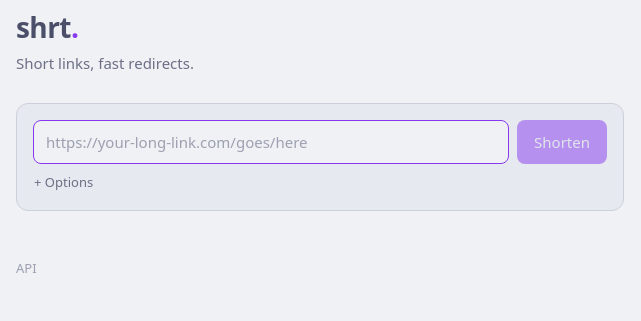
Test: App › shows API error messages
Type "https://example.com" into the field named "Long URL" at (271, 142), box [33,120,509,164]
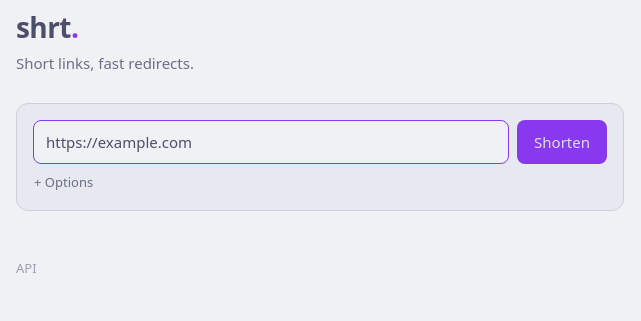
Click the button "Shorten" at (562, 142), box [517,120,607,164]
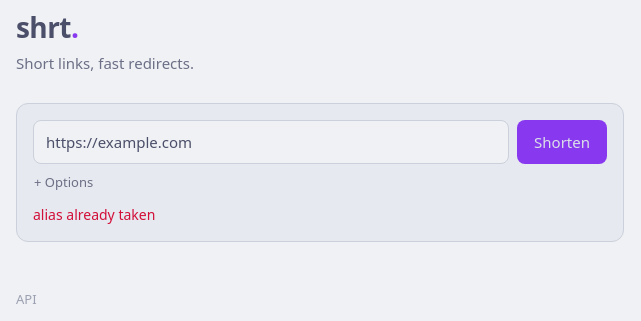
expect the message reads "alias already taken": met, box [33,204,155,224]
